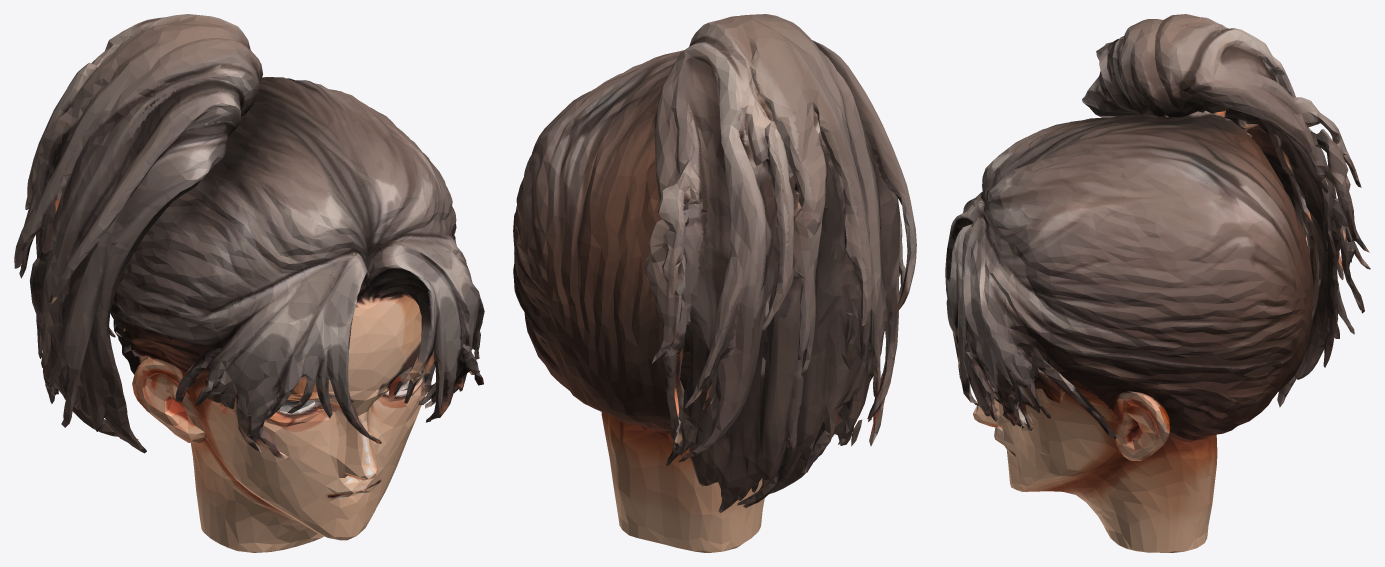
Rendered from side_yasurugi_repaired_atlas.glb.
3 views of the same model, side by side, from view 1: azimuth 30°, elevation 25°; view 2: azimuth 150°, elevation 25°; view 3: azimuth 270°, elevation 25° (orthographic). The views are drawn at different scales.
Parts seen in each view (by area): view 1: temp_mesh.ply; view 2: temp_mesh.ply; view 3: temp_mesh.ply.
Boxes of the visible parts, left/top/right/bottom form: temp_mesh.ply: left=14, top=14, right=484, bottom=552; temp_mesh.ply: left=513, top=14, right=916, bottom=552; temp_mesh.ply: left=945, top=14, right=1370, bottom=552.
Size of the model in its own units: 1.14 by 1.52 by 1.23.
1 material, 1 textured.
